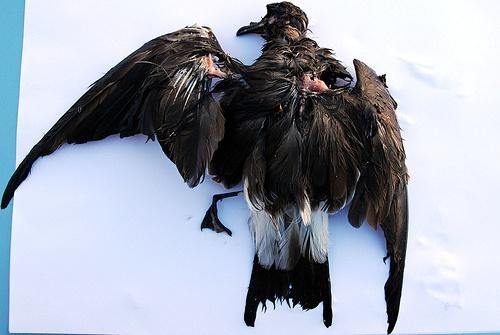bird: (5, 3, 404, 333)
